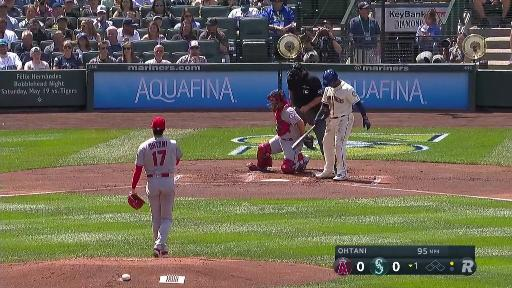pitcher: (128, 115, 182, 259)
